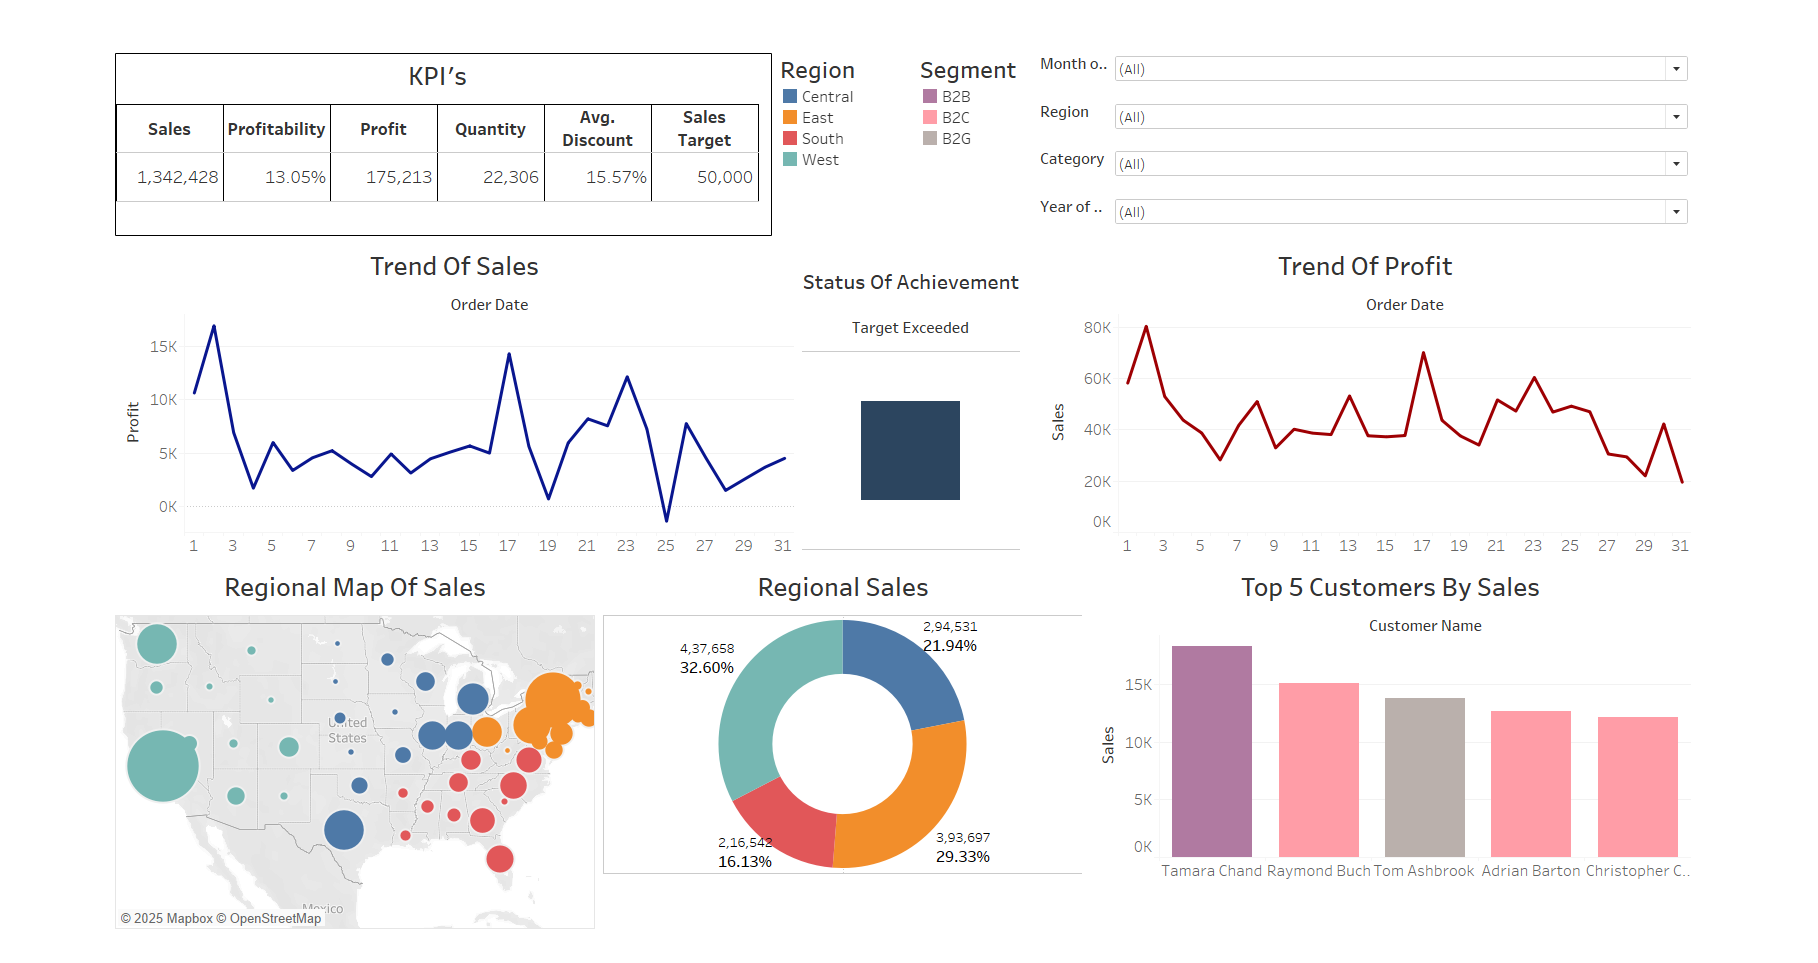

The dashboard page shown, as its layout file describes it:
{"tool":"tableau","page":{"name":"Dashboard 1","canvas":[1600,900],"ordinal":0},"visuals":[{"type":"worksheet","title":"Sheet 1","mark":"Automatic","box":[8,8,665,191.1]},{"type":"legend","title":"Sheet 2","param":"[federated.03k6plw18ucz8b106h2hl0ehq0w3].[none:Region:nk]","box":[673,8,140,191.1]},{"type":"legend","title":"Sheet 3","param":"[federated.03k6plw18ucz8b106h2hl0ehq0w3].[none:Segment:nk]","box":[813,8,120,191.1]},{"type":"filter","title":"Sheet 7","param":"[federated.03k6plw18ucz8b106h2hl0ehq0w3].[mn:Order Date:ok]","box":[933,8,659,47.7]},{"type":"filter","title":"Sheet 7","param":"[federated.03k6plw18ucz8b106h2hl0ehq0w3].[none:Region:nk]","box":[933,55.7,659,47.7]},{"type":"filter","title":"Sheet 7","param":"[federated.03k6plw18ucz8b106h2hl0ehq0w3].[none:Category:nk]","box":[933,103.3,659,47.7]},{"type":"filter","title":"Sheet 7","param":"[federated.03k6plw18ucz8b106h2hl0ehq0w3].[yr:Order Date:ok]","box":[933,151,659,47.7]},{"type":"worksheet","title":"Sheet 4","mark":"Automatic","rows":["Sales"],"cols":["Order Date"],"box":[933,198.6,659,321.4]},{"type":"worksheet","title":"Sheet 5","mark":"Automatic","rows":["Profit"],"cols":["Order Date"],"box":[8,199.1,686.5,320.9]},{"type":"worksheet","title":"Sheet 8","mark":"Automatic","cols":["Calculation_1224134735220461580"],"box":[694.5,199.1,238,320.9]},{"type":"worksheet","title":"Sheet 6","mark":"Automatic","box":[8,520,487.5,372]},{"type":"worksheet","title":"Sheet 2","mark":"Pie","cols":["Calculation_1224134735192133640","Calculation_1224134735192166410"],"box":[495.5,520,487.5,372]},{"type":"worksheet","title":"Sheet 3","mark":"Automatic","rows":["Sales"],"cols":["Customer Name"],"box":[983,520,609,340]},{"type":"worksheet","title":"Sheet 7","mark":"Automatic","box":[983,860,609,32]}]}

Visuals, with their boxes on the page's 1600x900 design canvas (x1, y1, x2, y2). These are canvas units, not pixel positions in the 1818x963 screenshot, which may show the page scaled, cropped or inside an application window:
"Sheet 1" worksheet: detection(8, 8, 673, 199)
"Sheet 2" legend: detection(673, 8, 813, 199)
"Sheet 3" legend: detection(813, 8, 933, 199)
"Sheet 7" filter: detection(933, 8, 1592, 56)
"Sheet 7" filter: detection(933, 56, 1592, 103)
"Sheet 7" filter: detection(933, 103, 1592, 151)
"Sheet 7" filter: detection(933, 151, 1592, 199)
"Sheet 4" worksheet: detection(933, 199, 1592, 520)
"Sheet 5" worksheet: detection(8, 199, 694, 520)
"Sheet 8" worksheet: detection(694, 199, 932, 520)
"Sheet 6" worksheet: detection(8, 520, 496, 892)
"Sheet 2" worksheet (Pie marks): detection(496, 520, 983, 892)
"Sheet 3" worksheet: detection(983, 520, 1592, 860)
"Sheet 7" worksheet: detection(983, 860, 1592, 892)
